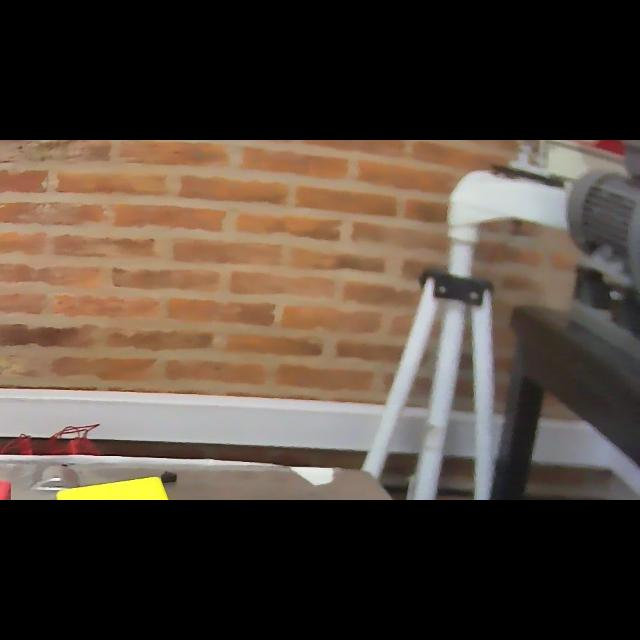redBox: (0, 470, 14, 500)
yellowBox: (54, 472, 178, 500)
